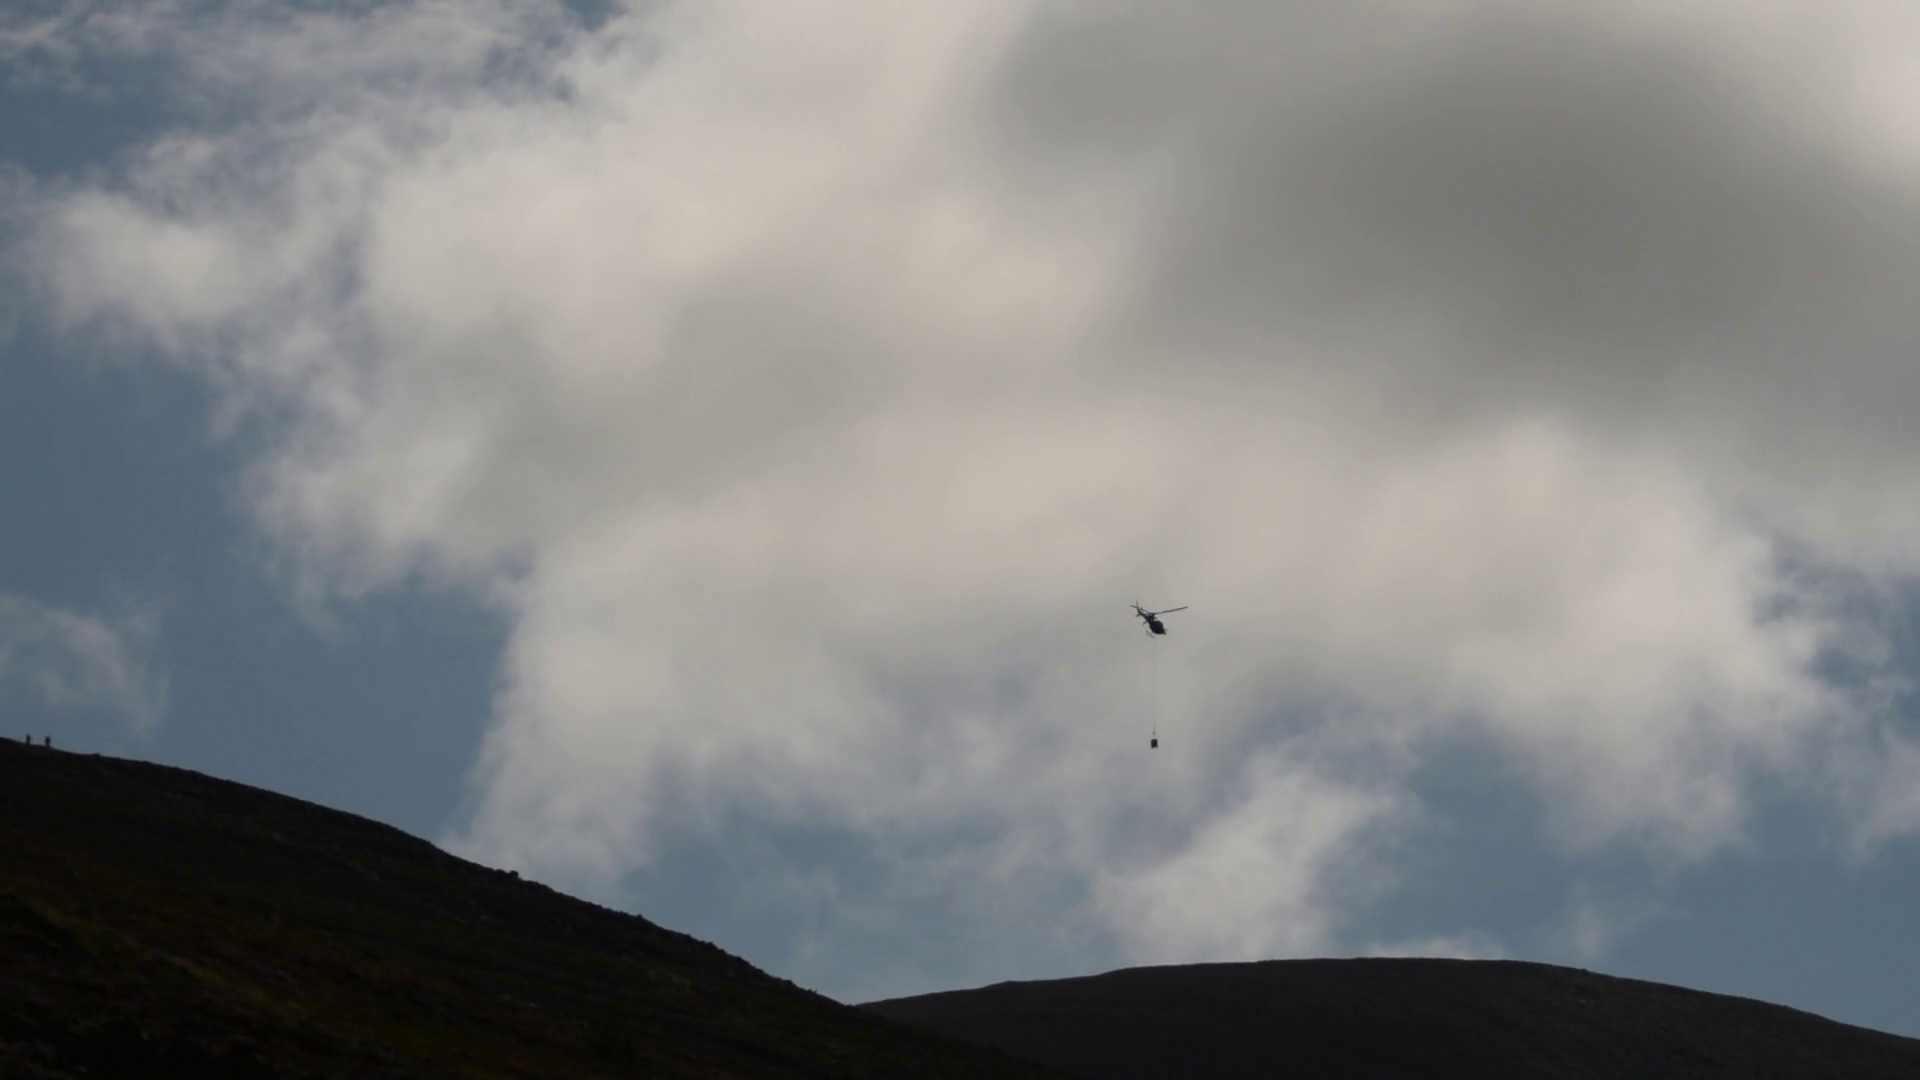heli: (1126, 596, 1189, 640)
